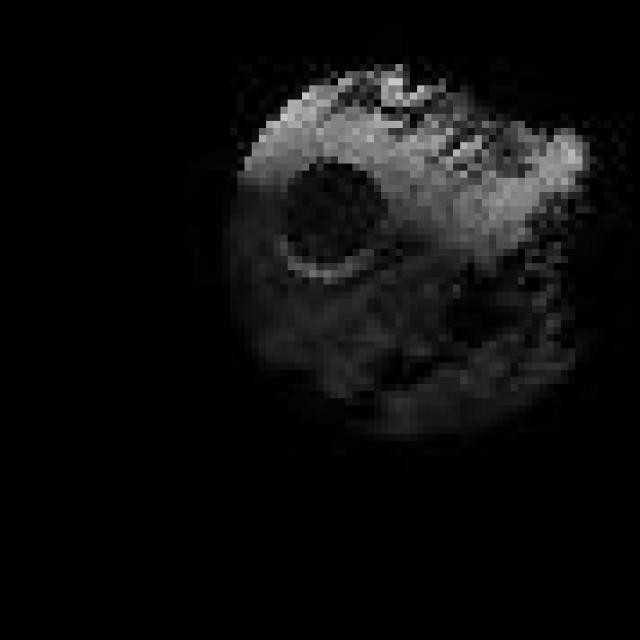Death Star: (208, 50, 597, 441)
